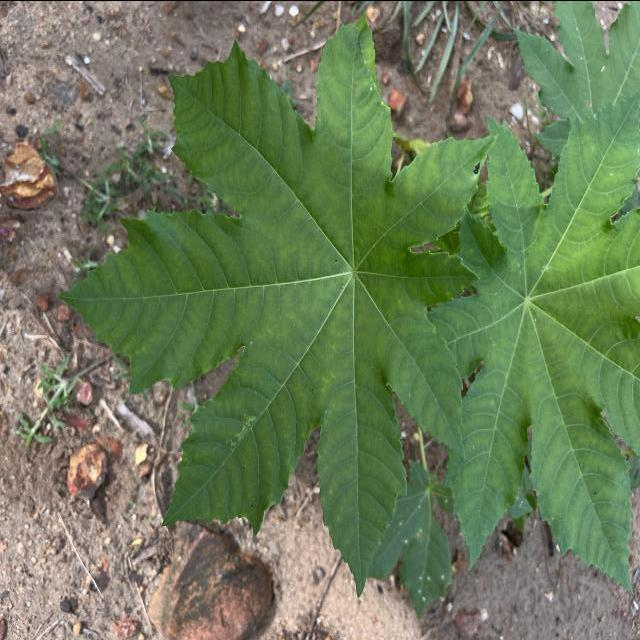Ricinus communis linn: (45, 6, 508, 604)
